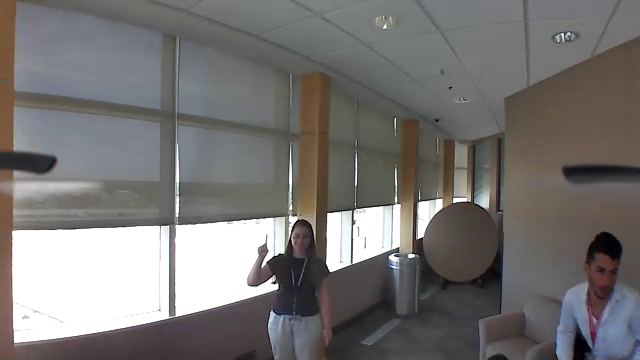up: (253, 231, 271, 260)
